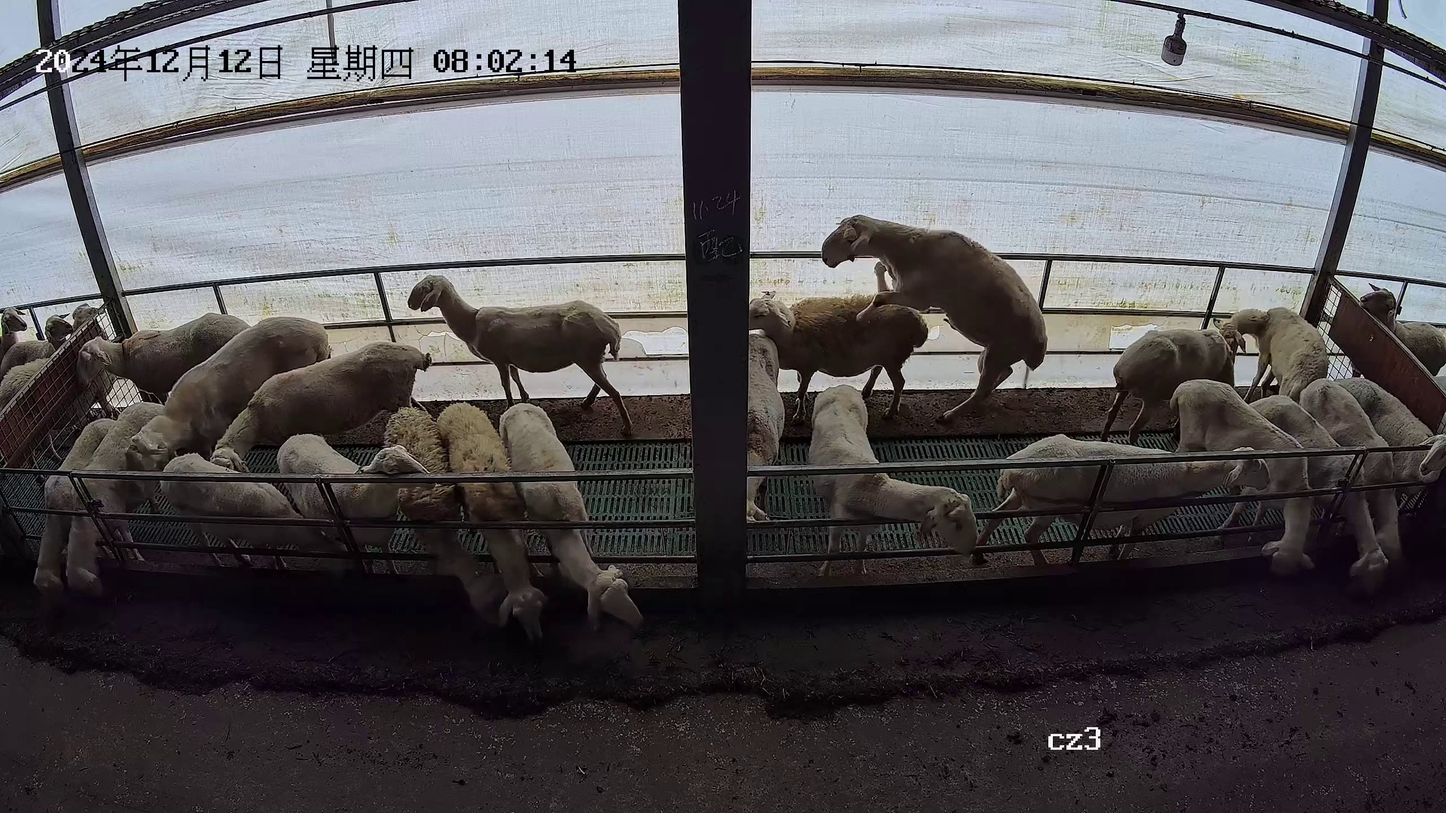Smounting: (743, 211, 1049, 427)
mounted: (746, 286, 930, 422)
